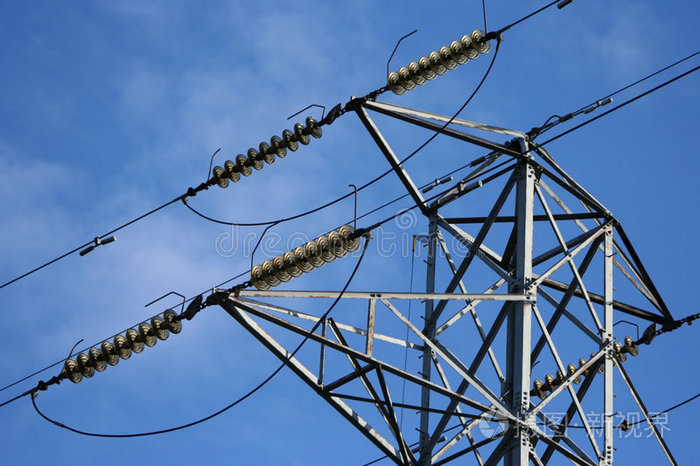insulator: (63, 308, 180, 386), (213, 117, 325, 190), (252, 227, 362, 291), (388, 31, 490, 96), (536, 339, 639, 399)
